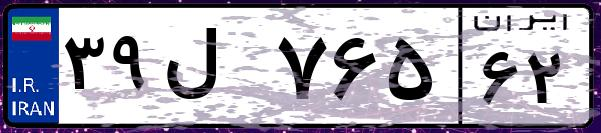2: (525, 38, 570, 115)
3: (57, 26, 110, 100)
5: (385, 28, 445, 110)
6: (330, 28, 385, 110), (475, 38, 525, 113)
7: (270, 28, 330, 110)
9: (110, 28, 158, 98)
ل: (158, 20, 270, 120)
